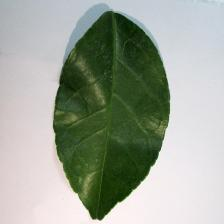healthy: (52, 8, 170, 219)
